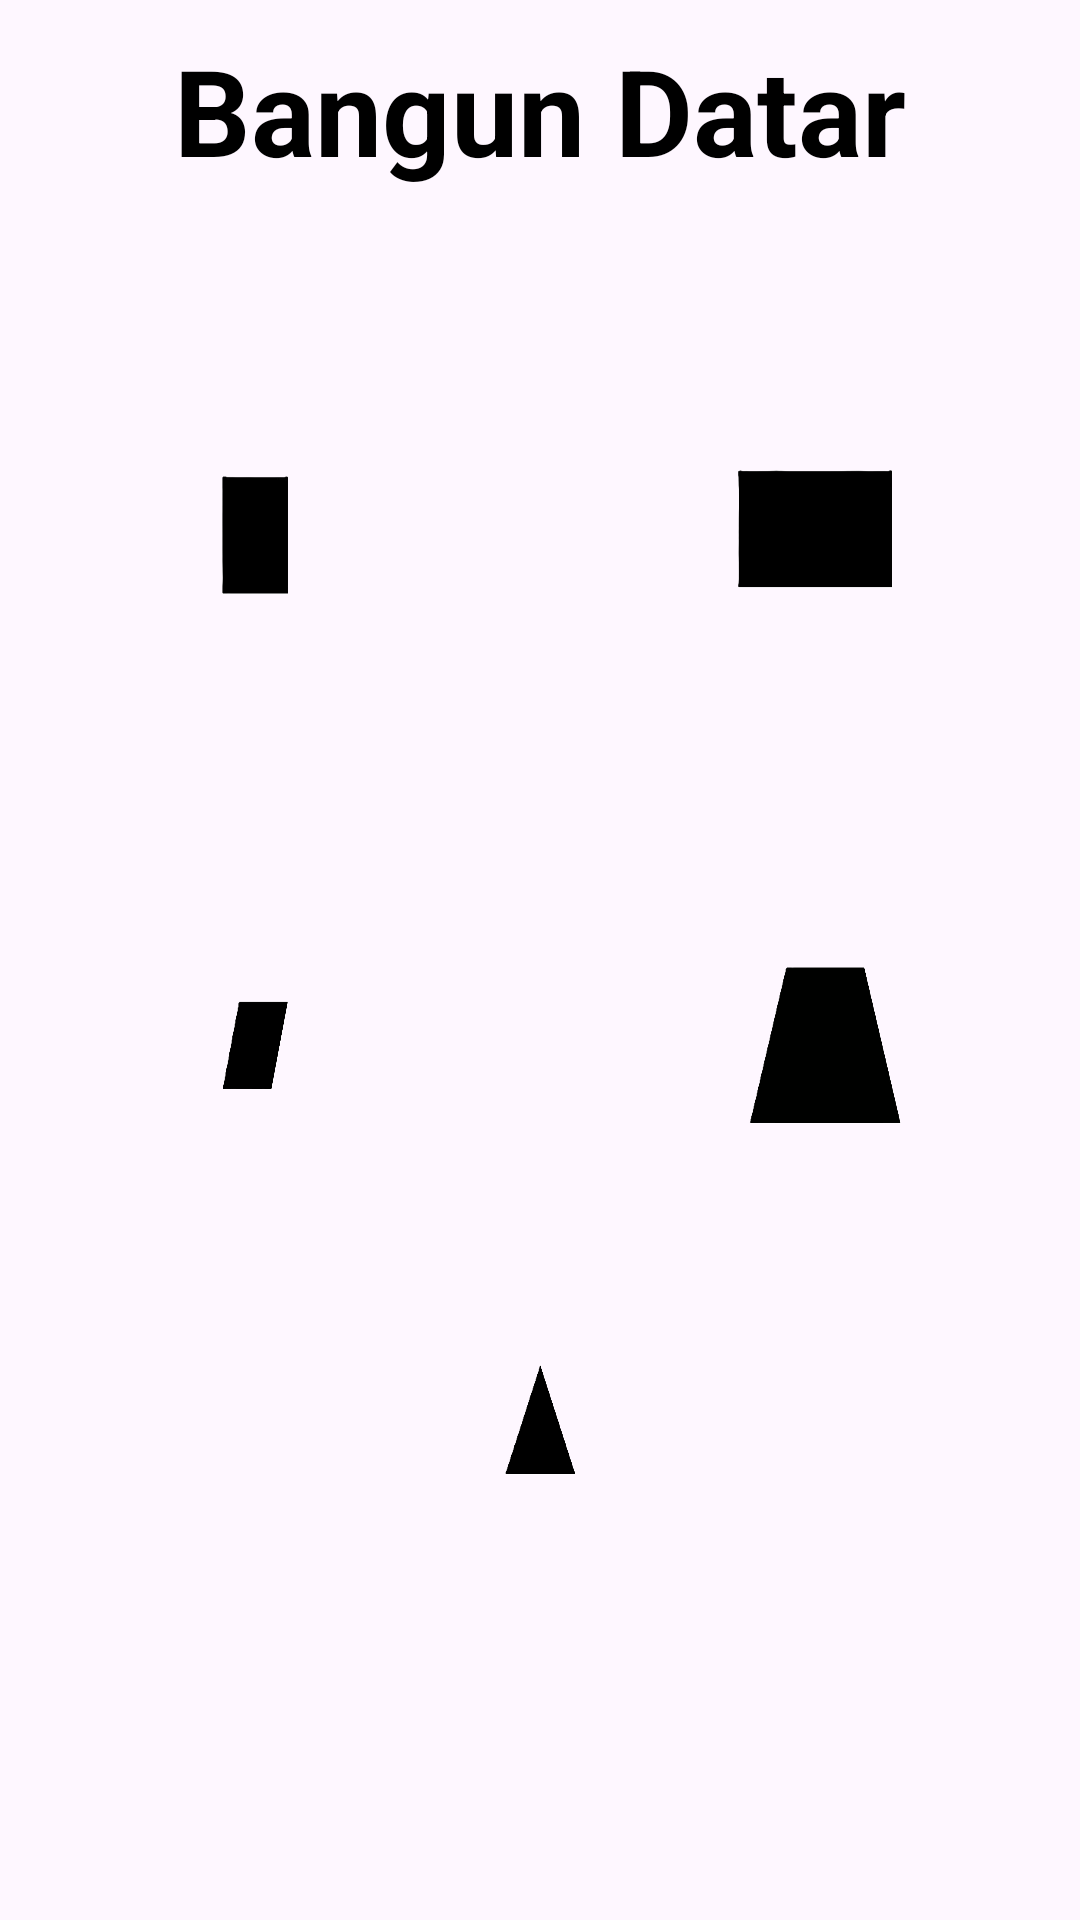

Named icons in this screenshot (1080px x 1920px) and their bounding boxes, rect(x1, y1, x2, y2):
jajargenjang: rect(223, 1002, 288, 1089)
kotak: rect(222, 476, 288, 594)
persegipanjang: rect(738, 470, 892, 587)
segitiga: rect(505, 1365, 575, 1474)
trapesium: rect(750, 967, 901, 1123)
